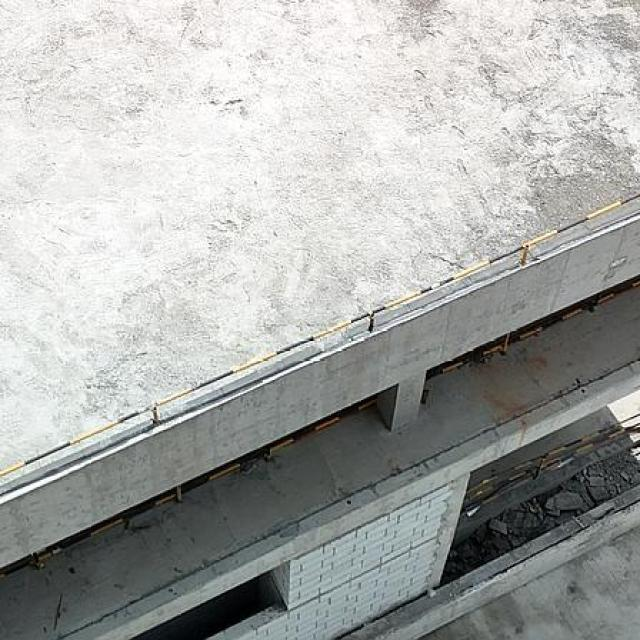edge_guardrail: (0, 191, 640, 482), (0, 398, 379, 578), (425, 279, 640, 381), (461, 413, 636, 517)
